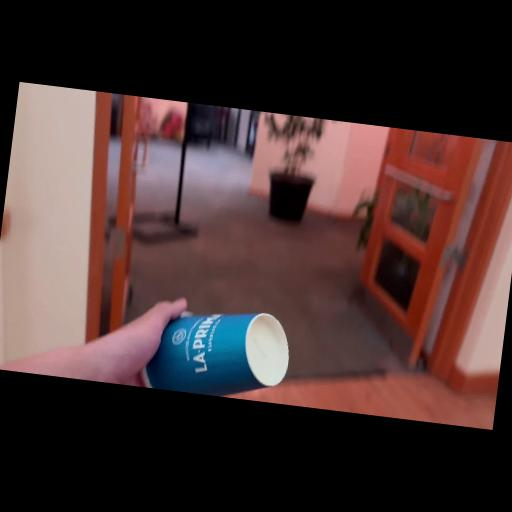lp_paper_cup: (138, 298, 292, 403)
